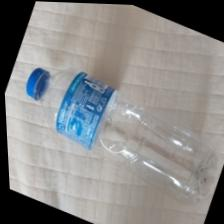plastic: (7, 31, 223, 223)
